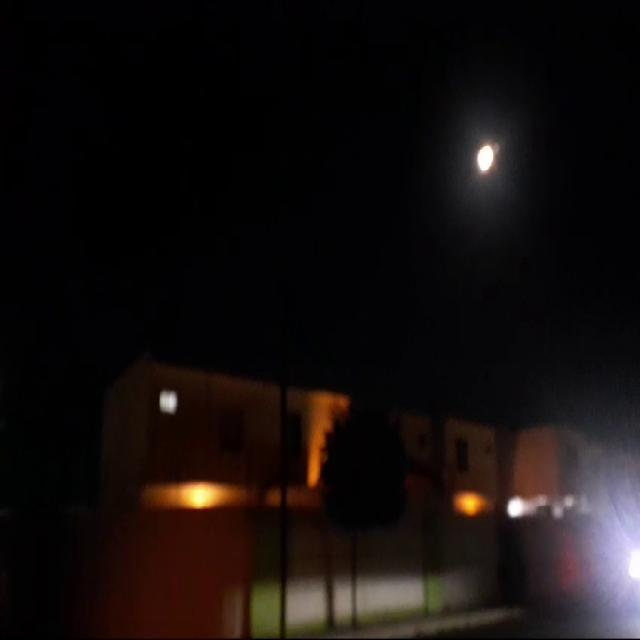moon: (474, 137, 494, 171)
